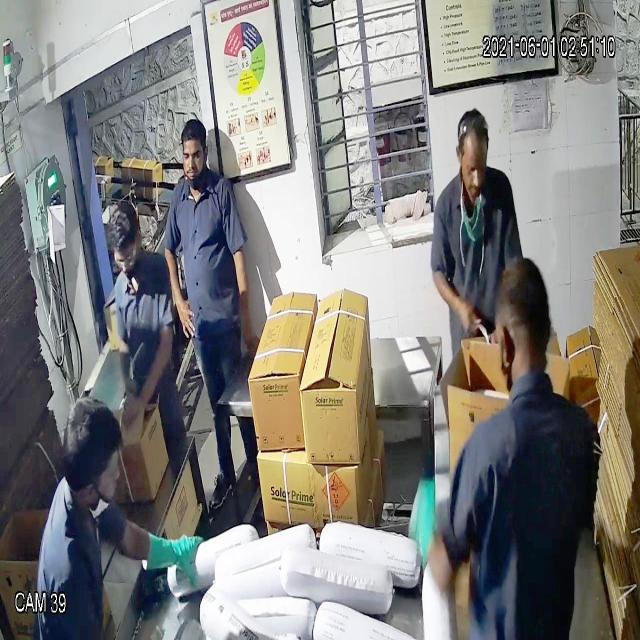glasses: (111, 243, 143, 278)
no-glass: (454, 143, 490, 187)
